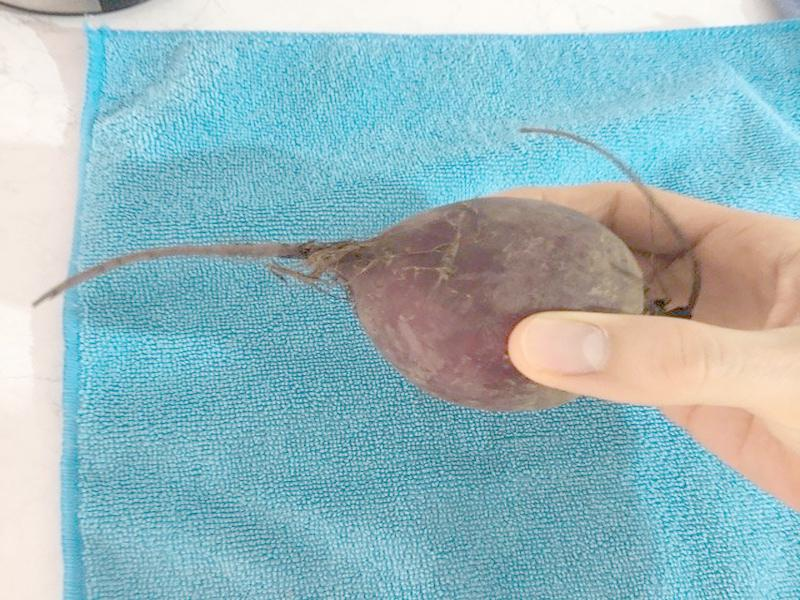Beet: (29, 129, 699, 412)
